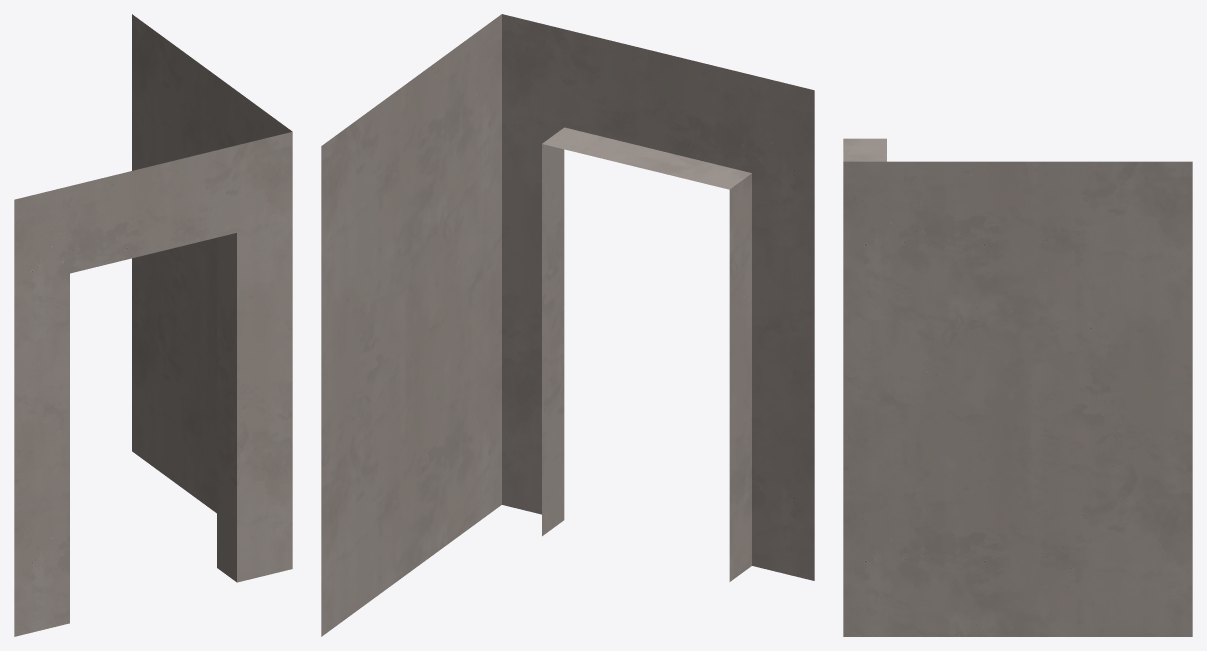
Rendered from SM_ENV_K1_WALL_DOORWAY_CORNER_2X3_01.fbx.
3 views of the same model, side by side, from view 1: azimuth 30°, elevation 25°; view 2: azimuth 150°, elevation 25°; view 3: azimuth 270°, elevation 25° (orthographic). The views are drawn at different scales.
Visible parts, largest first — view 1: SM_ENV_K1_WALL_DOORWAY_CORNER_2X3_01; view 2: SM_ENV_K1_WALL_DOORWAY_CORNER_2X3_01; view 3: SM_ENV_K1_WALL_DOORWAY_CORNER_2X3_01.
Boxes of the visible parts, x1,y1,x2,y2 form: SM_ENV_K1_WALL_DOORWAY_CORNER_2X3_01: (14,14,292,636); SM_ENV_K1_WALL_DOORWAY_CORNER_2X3_01: (321,14,814,636); SM_ENV_K1_WALL_DOORWAY_CORNER_2X3_01: (843,138,1192,636).
Bounding box in the file's own units: 2 × 3 × 2.
